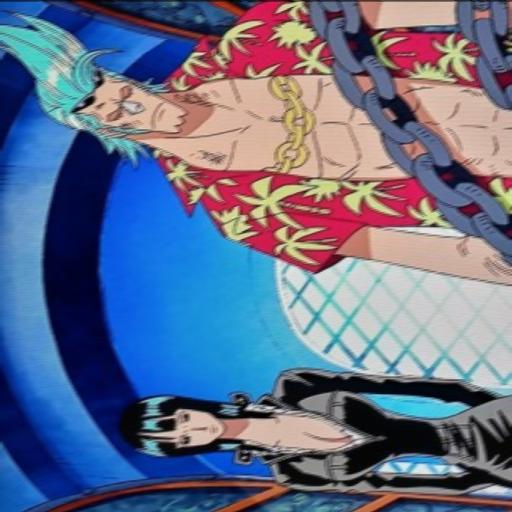NicoRobin: (110, 388, 266, 468)
